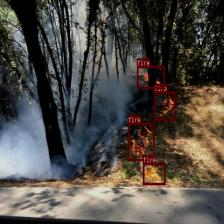fire: (128, 122, 154, 160), (154, 91, 175, 120), (137, 66, 164, 88), (142, 162, 165, 184)
